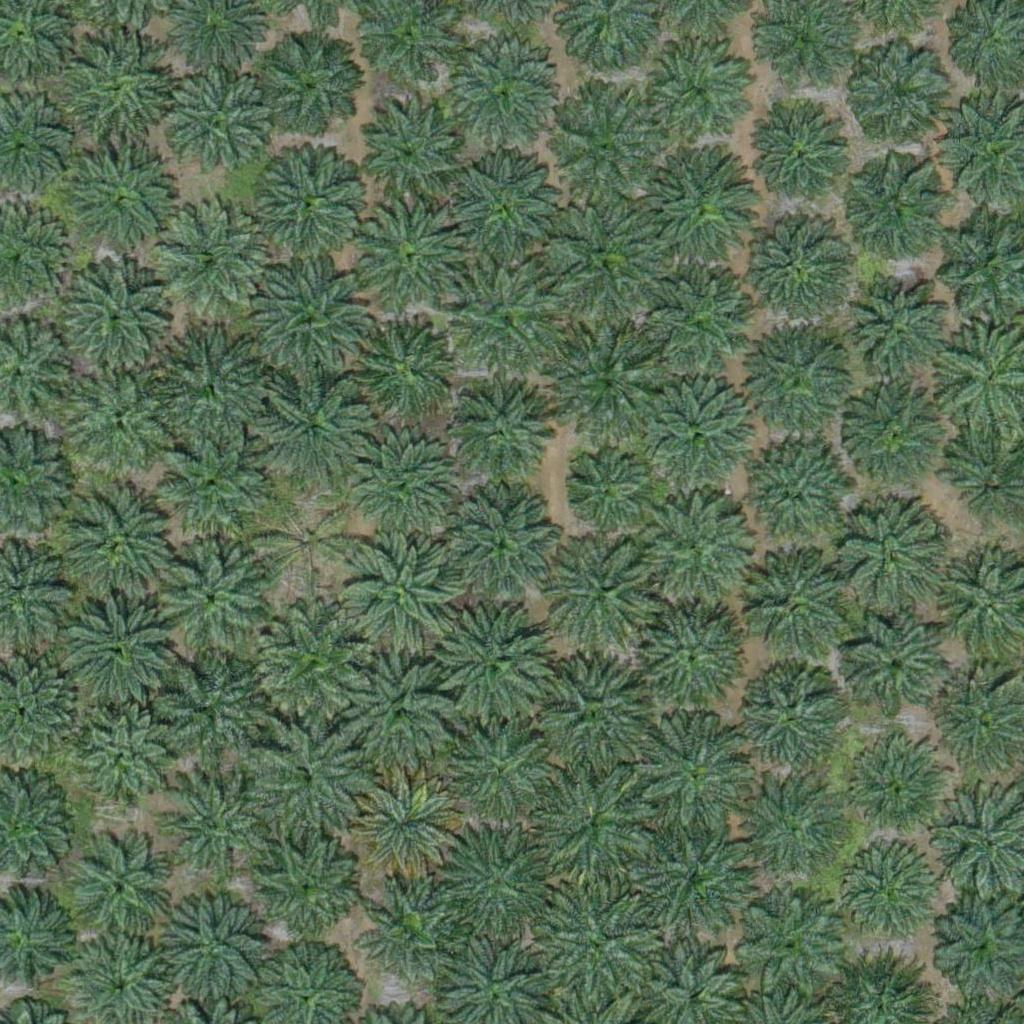Kelapa_Sawit: (53, 31, 178, 157), (63, 141, 188, 267), (632, 266, 757, 392), (546, 323, 671, 449), (530, 764, 655, 890), (536, 883, 661, 1009), (48, 249, 173, 375), (646, 36, 759, 150), (639, 149, 752, 263), (641, 601, 754, 715), (547, 535, 660, 649), (633, 716, 746, 830), (351, 198, 464, 312), (446, 488, 559, 602), (547, 93, 660, 206), (360, 98, 473, 211), (253, 144, 366, 257), (838, 384, 951, 497), (833, 506, 946, 619), (740, 214, 853, 327), (741, 327, 854, 440), (640, 822, 753, 935), (533, 660, 646, 773), (434, 605, 547, 718), (64, 360, 177, 473), (151, 653, 264, 766), (159, 545, 272, 658), (155, 428, 268, 541), (149, 330, 262, 443), (255, 606, 368, 719), (449, 258, 562, 371), (349, 771, 462, 884), (251, 724, 364, 837), (247, 829, 360, 942), (730, 883, 842, 997), (155, 199, 267, 313), (255, 259, 367, 373), (350, 436, 462, 550), (447, 47, 559, 160), (451, 149, 563, 262), (164, 73, 276, 186), (739, 445, 851, 558), (736, 553, 848, 666), (640, 381, 752, 494), (639, 492, 751, 605), (548, 203, 660, 316), (446, 715, 558, 828), (436, 824, 548, 937), (67, 484, 179, 597), (63, 591, 175, 704), (257, 371, 369, 484), (342, 655, 454, 768), (343, 533, 455, 646), (159, 769, 271, 882), (258, 493, 358, 594), (852, 39, 952, 140), (261, 36, 361, 137), (841, 161, 941, 262), (852, 278, 952, 379), (843, 612, 943, 713), (75, 711, 175, 812), (164, 894, 264, 995), (72, 843, 172, 944), (754, 110, 854, 210), (738, 666, 838, 766), (843, 738, 943, 838), (839, 845, 939, 945), (744, 777, 844, 877), (353, 320, 453, 420), (452, 378, 552, 478), (367, 886, 454, 975), (566, 454, 641, 530)
